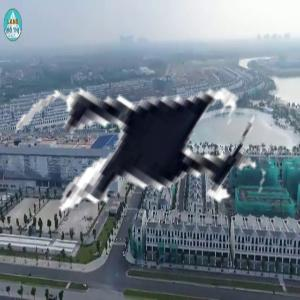drone: (7, 11, 296, 300)
